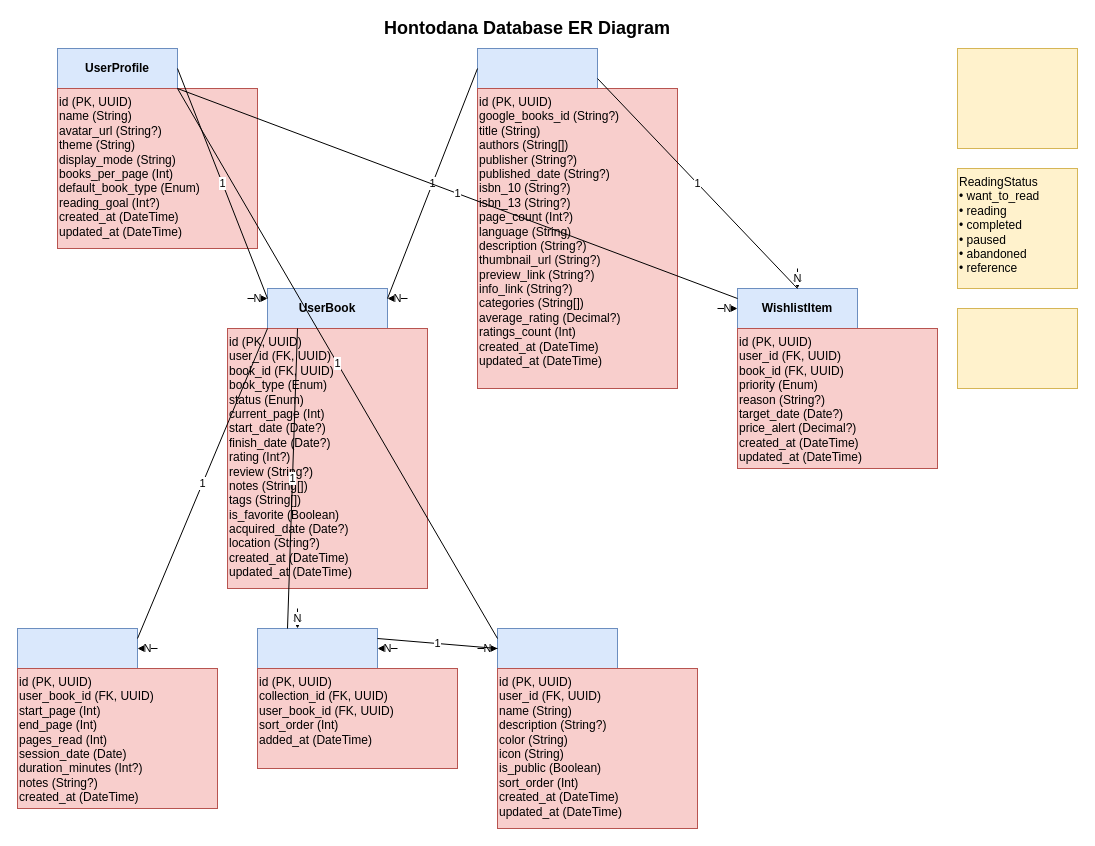
The diagram is 1095 pixels wide and 846 high, and some of its shapes have lost their labels. The centre of each missing label's shape, as x and y in pixels:
"Book" goes at pixel 537 68.
"BookType • physical • kindle • epub • audiobook • other" goes at pixel 1017 98.
"Collection" goes at pixel 557 648.
"CollectionBook" goes at pixel 317 648.
"ReadingSession" goes at pixel 77 648.
"WishlistPriority • low • medium • high • urgent" goes at pixel 1017 348.
